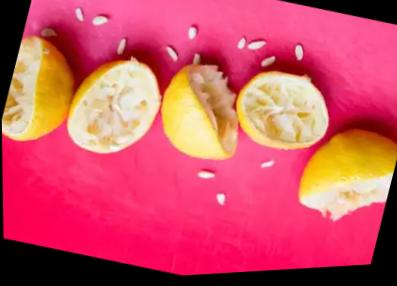organic: (300, 130, 396, 220), (67, 60, 159, 152), (161, 62, 237, 159), (2, 36, 72, 140), (236, 71, 327, 148)
